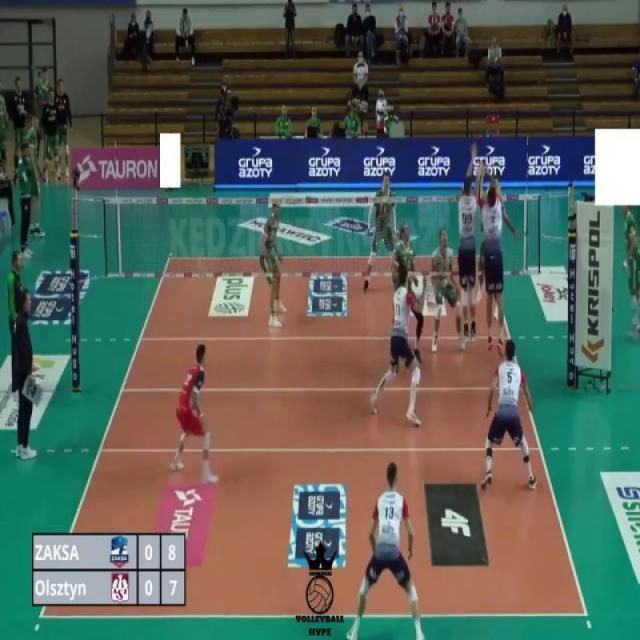volleyball: (486, 186, 490, 198)
